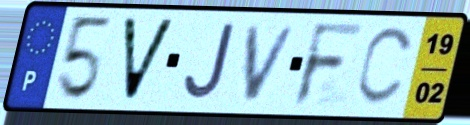5: (52, 14, 118, 103)
C: (352, 24, 418, 109)
F: (289, 20, 368, 110)
J: (180, 21, 238, 104)
V: (119, 15, 179, 106), (242, 23, 302, 104)
